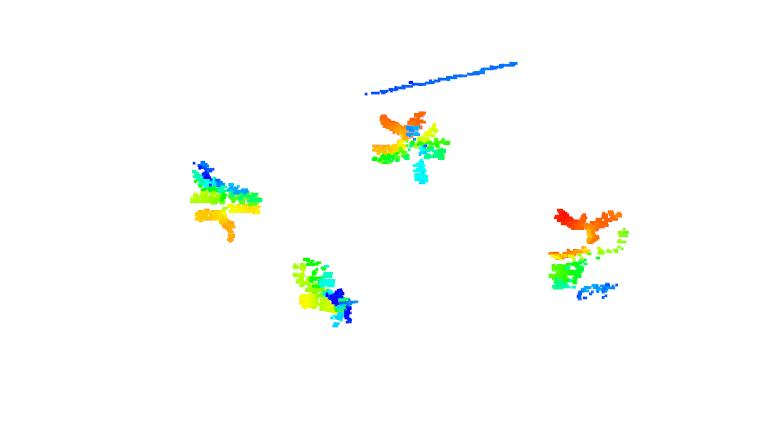chickpea: (542, 205, 631, 302), (188, 158, 264, 244), (370, 109, 451, 188), (292, 255, 357, 329)
